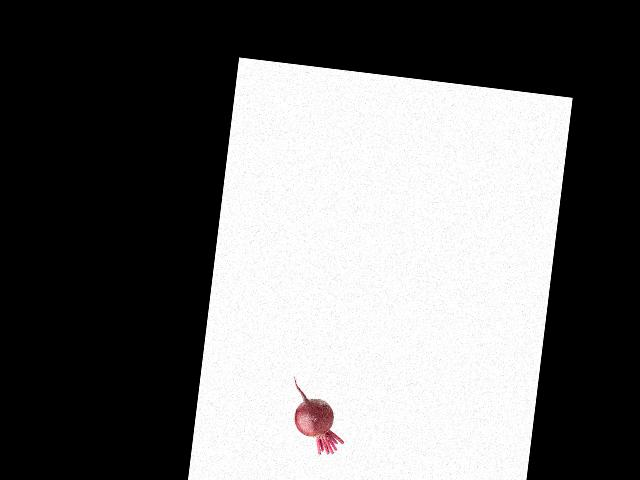beet: (285, 377, 351, 457)
